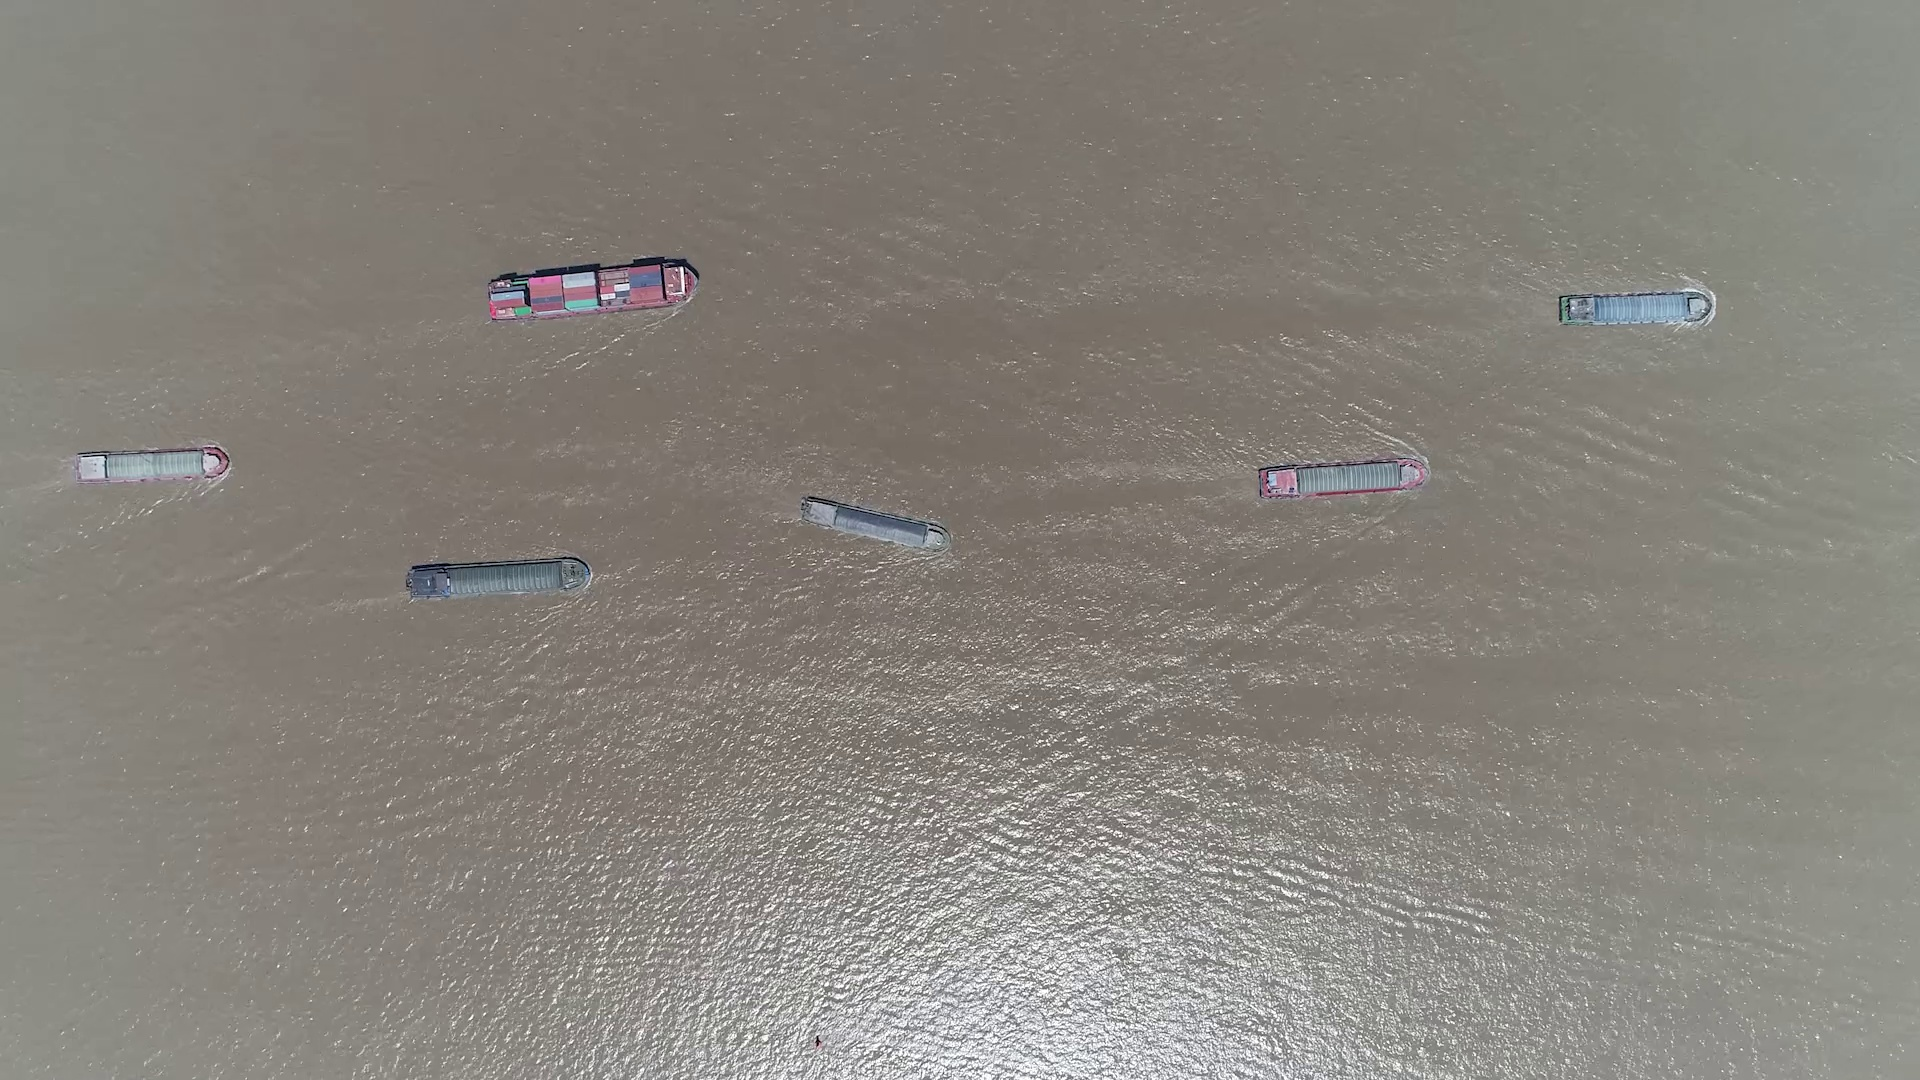ship: (485, 260, 698, 320), (800, 496, 949, 553), (406, 556, 592, 600), (1257, 458, 1427, 500), (73, 448, 227, 483), (1563, 291, 1712, 324)
